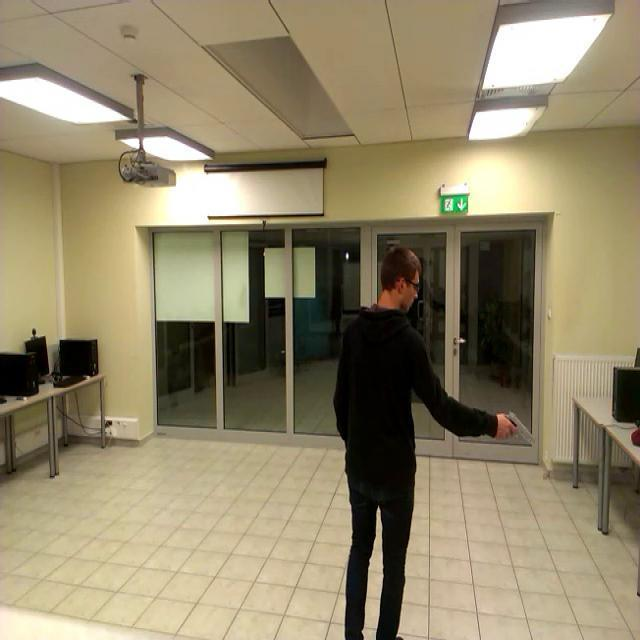gun: (499, 411, 534, 442)
